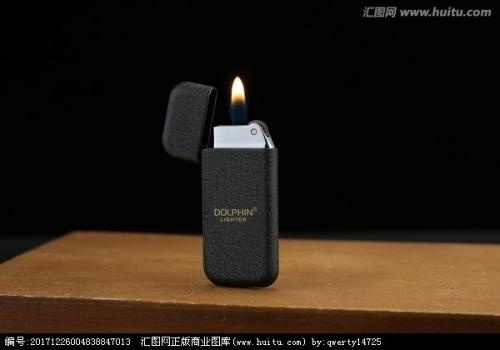fire: (229, 73, 249, 119)
